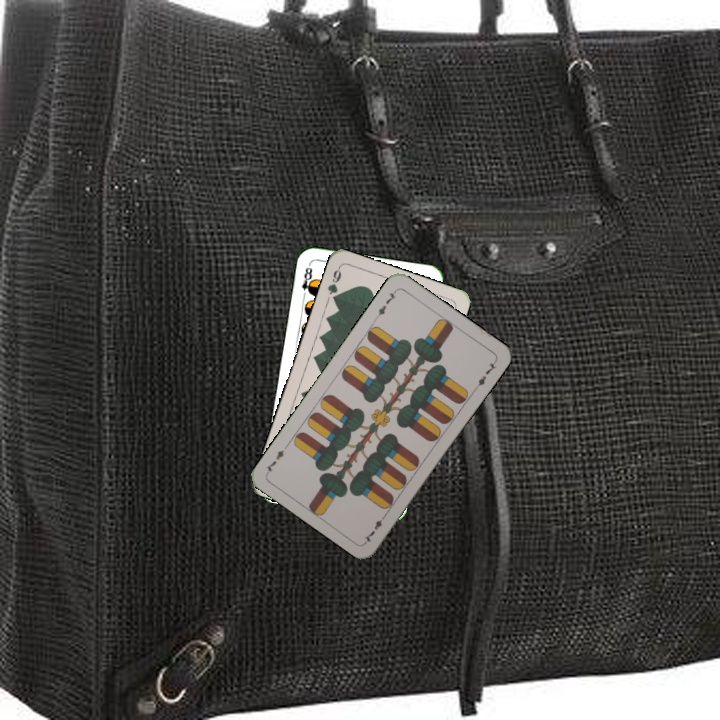E7: (371, 286, 400, 321), (360, 510, 389, 545)
E8: (298, 263, 316, 301)
G9: (323, 263, 344, 305)
